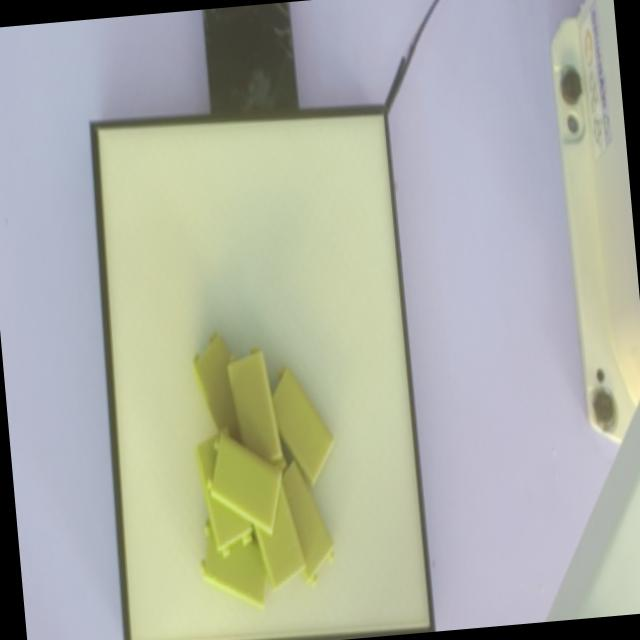bateria: (207, 429, 282, 535)
mesa: (89, 104, 435, 640)
